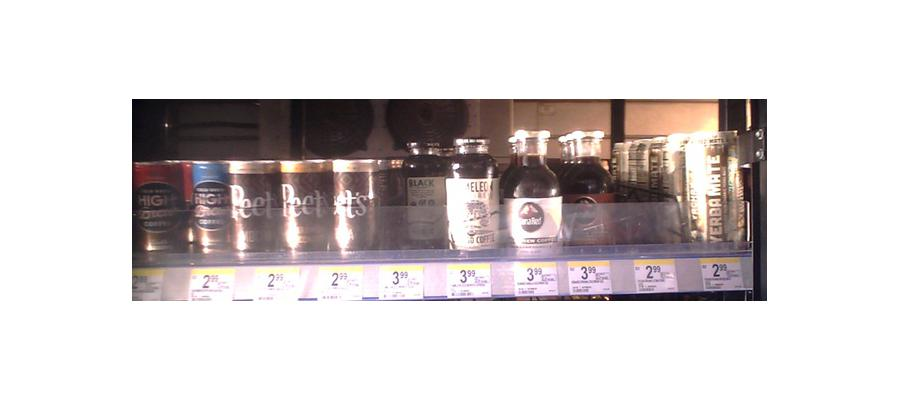bottle: (504, 126, 565, 256), (358, 91, 399, 250), (616, 140, 674, 252), (402, 123, 453, 248), (451, 136, 502, 255), (564, 132, 614, 249), (284, 145, 334, 258), (133, 156, 183, 251), (233, 158, 279, 261), (188, 155, 231, 257)
